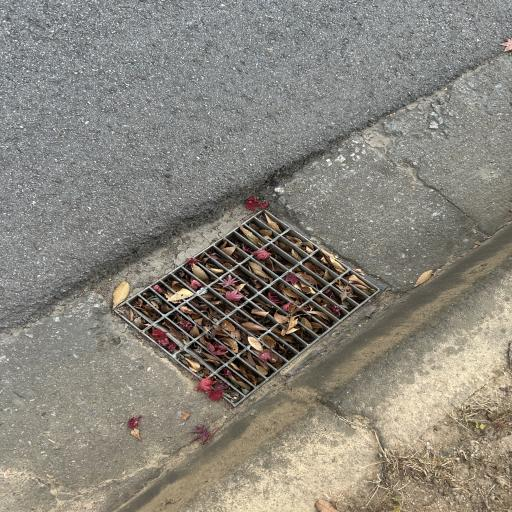debris: (176, 305, 280, 373), (251, 262, 339, 341), (152, 258, 213, 301), (184, 356, 232, 396), (240, 215, 280, 245), (148, 320, 186, 351), (249, 248, 279, 280), (214, 277, 246, 304), (335, 273, 373, 295), (275, 233, 313, 253), (229, 364, 260, 383), (320, 252, 345, 273), (224, 370, 249, 389), (134, 301, 158, 319), (192, 302, 217, 318), (124, 307, 143, 327), (207, 259, 233, 273), (220, 241, 240, 255), (154, 301, 171, 310), (115, 295, 128, 304), (290, 252, 300, 260), (205, 293, 212, 299), (212, 300, 222, 304)
drain: (109, 205, 380, 407)
